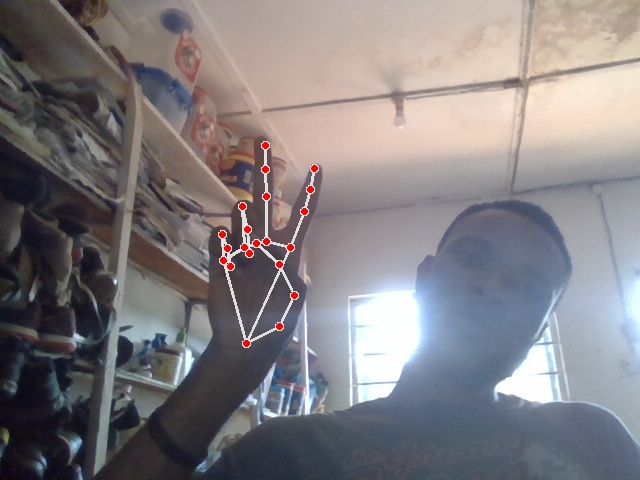peace: (208, 137, 323, 361)
